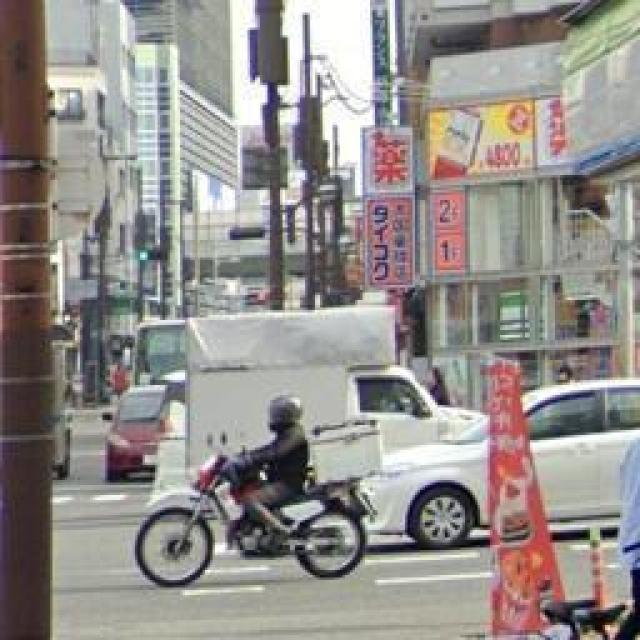car: (351, 375, 640, 545), (107, 378, 168, 492)
motorbike: (138, 388, 362, 597)
truck: (176, 304, 502, 488)
